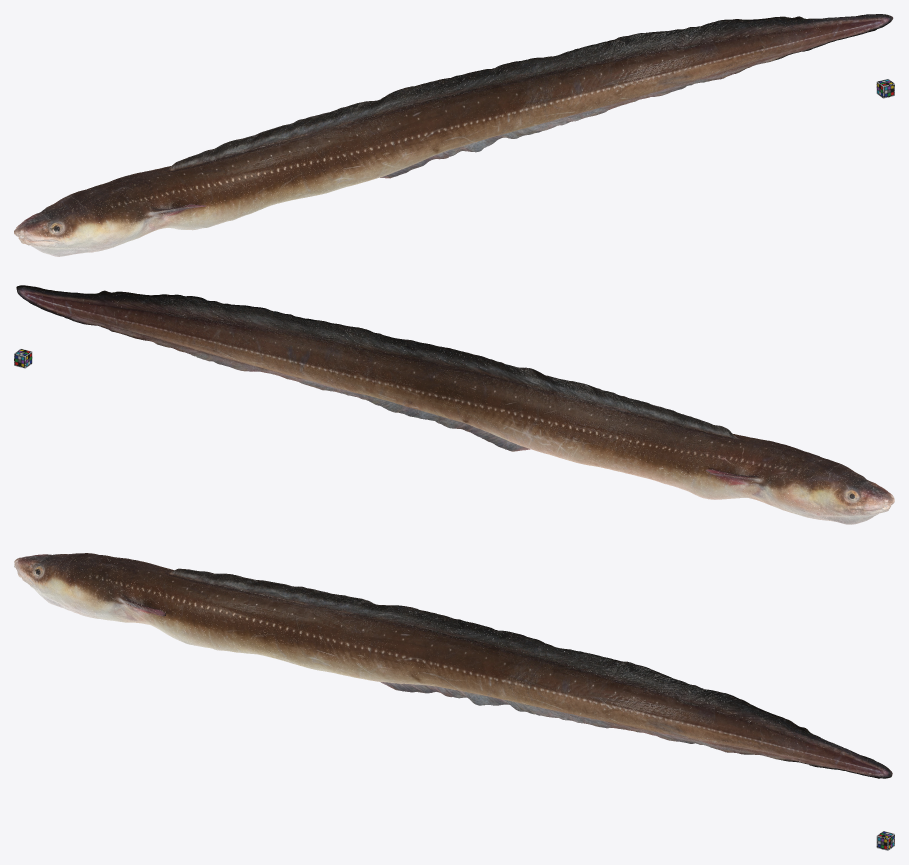
File: anago-4706415510a2.glb
3 renders of one model, top to bottom at view 1: azimuth 30°, elevation 25°; view 2: azimuth 150°, elevation 25°; view 3: azimuth 330°, elevation 25°, orthographic.
Visible parts, largest first — view 1: Q11588-1all-1_5; view 2: Q11588-1all-1_5; view 3: Q11588-1all-1_5.
Part boxes in pixels (x1,y1,x2,y2): Q11588-1all-1_5: (14,14,893,256); Q11588-1all-1_5: (16,285,894,524); Q11588-1all-1_5: (14,553,892,778).
Bounding box in the file's own units: 26.64 × 3.55 × 2.42.
3 materials, 3 textured.
